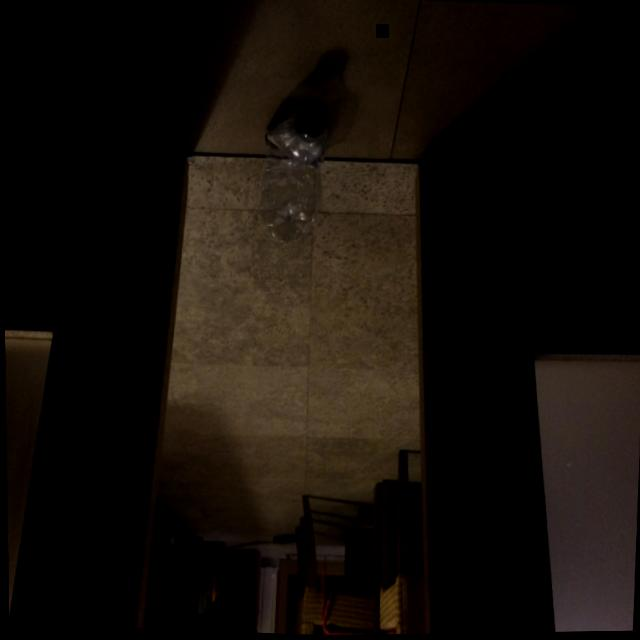Clear plastic bottle: (257, 98, 327, 246)
Plastic bottle cap: (299, 99, 325, 137)
